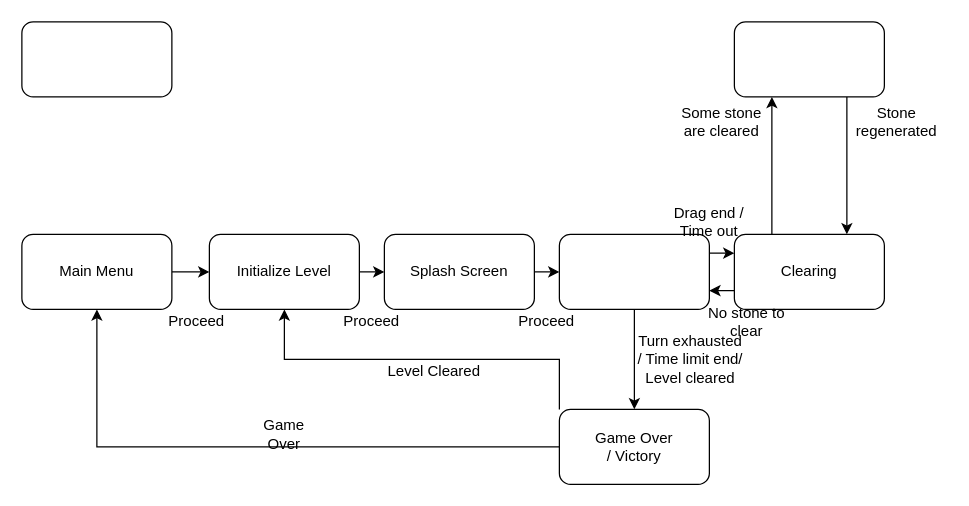
This 969x506 diagram has some shape labels left out. Each missing label, with the box of its shape:
Action: (558, 233, 709, 309)
Quit: (21, 21, 172, 97)
Regeneration: (733, 21, 884, 97)
